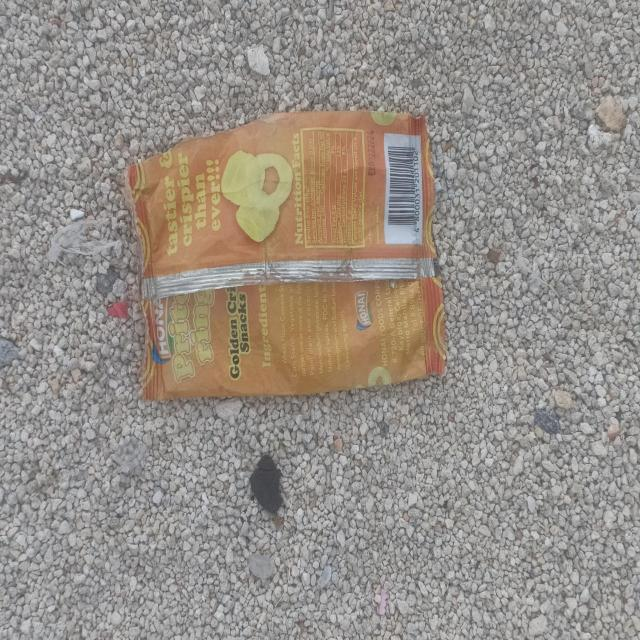plastic_waste: (124, 111, 448, 399)
